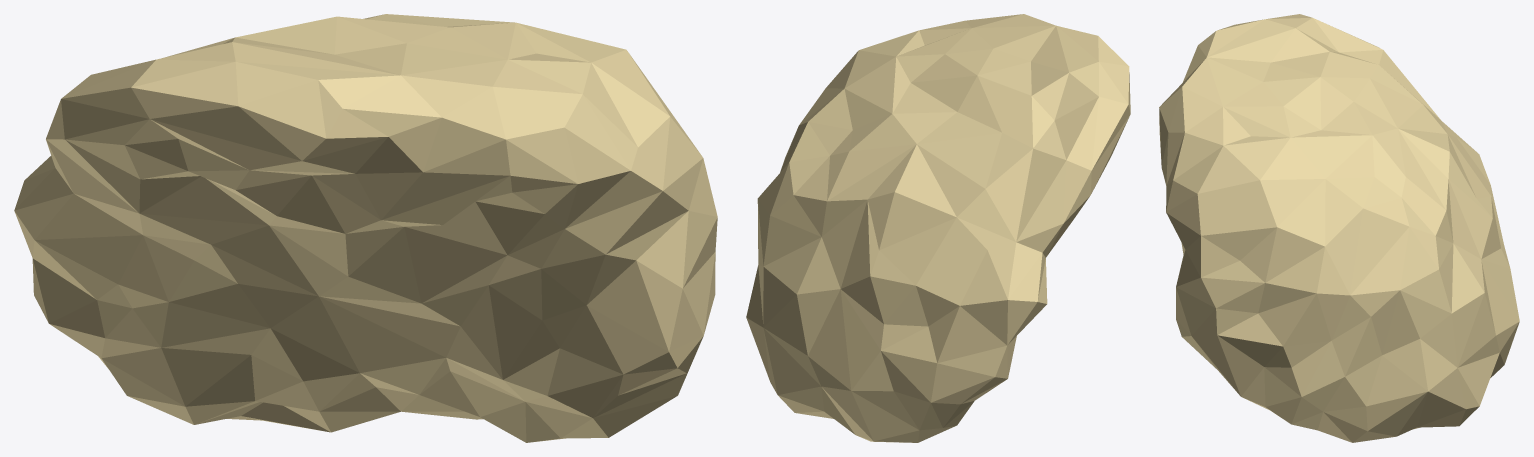
Rendered from Asteroid (54).fbx.
3 views of the same model, side by side, from view 1: azimuth 30°, elevation 25°; view 2: azimuth 150°, elevation 25°; view 3: azimuth 270°, elevation 25° (orthographic). The views are drawn at different scales.
Visible parts, largest first — view 1: Asteroid186; view 2: Asteroid186; view 3: Asteroid186.
Part boxes in pixels (x1,y1,x2,y2): Asteroid186: (14, 14, 717, 442); Asteroid186: (746, 14, 1130, 442); Asteroid186: (1159, 14, 1519, 442).
Size of the model in its own units: 476 by 446 by 457.
